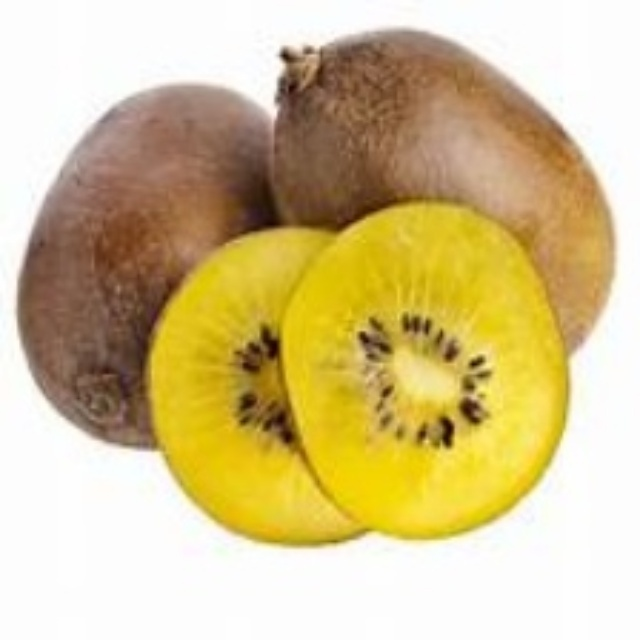kiwi: (164, 215, 549, 541), (271, 14, 614, 354), (20, 73, 266, 460)
